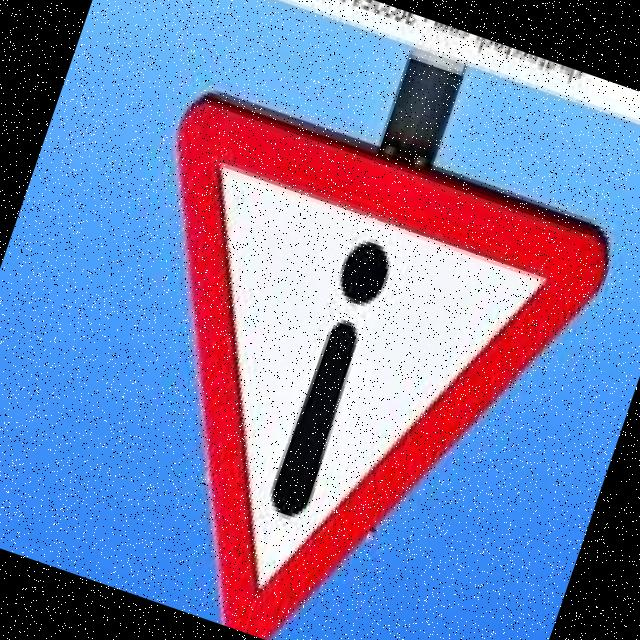warning: (29, 67, 632, 640)
